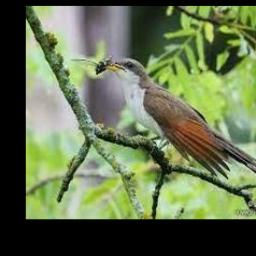Cuckoo: (105, 58, 256, 183)
